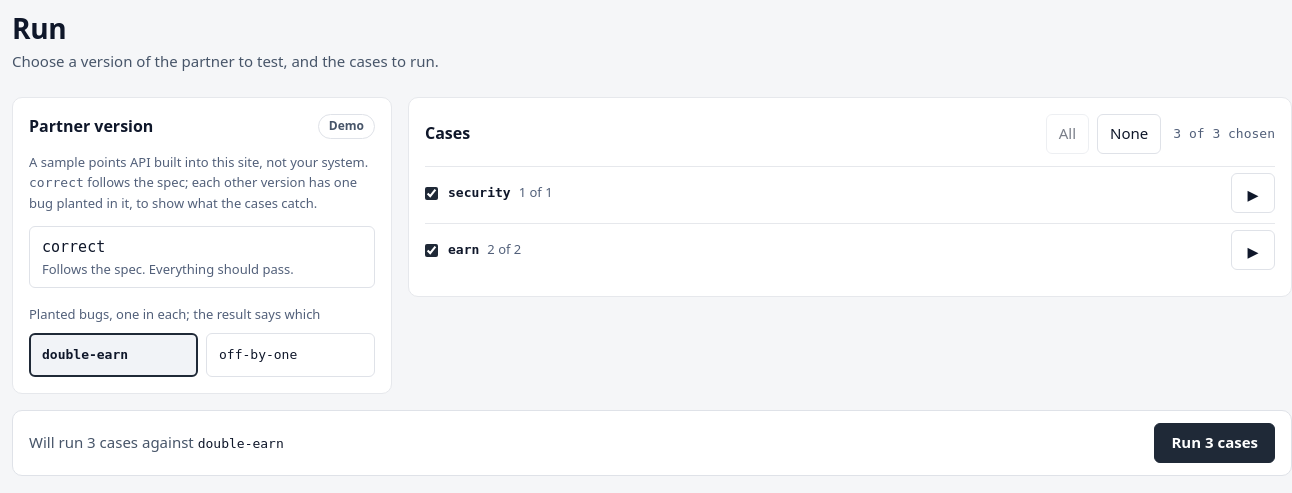
the Run page › choosing cases › starts folded, and unfolds one group without the others
This screenshot has width=1292, height=493.
Expected: the text "Earning adds exactly the points earned" is not shown
Click the button named "Show the earn cases".
click(1253, 250)  # box [1231,230,1275,270]
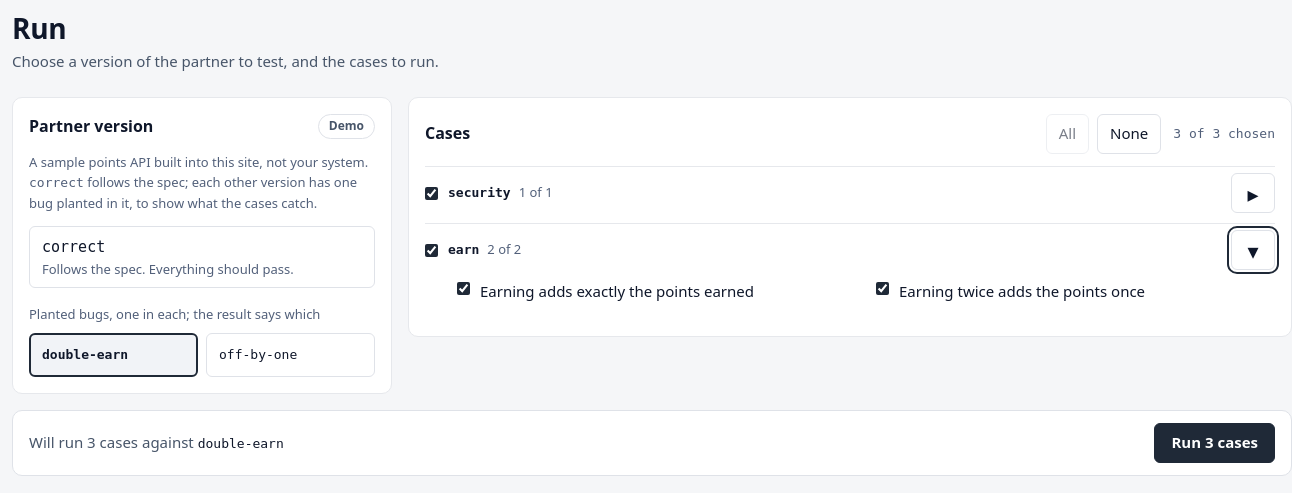
Expected: the text "Earning adds exactly the points earned" is shown, [480,280,754,303]
Expected: the button named "Hide the earn cases" is expanded, [1231,230,1275,270]
